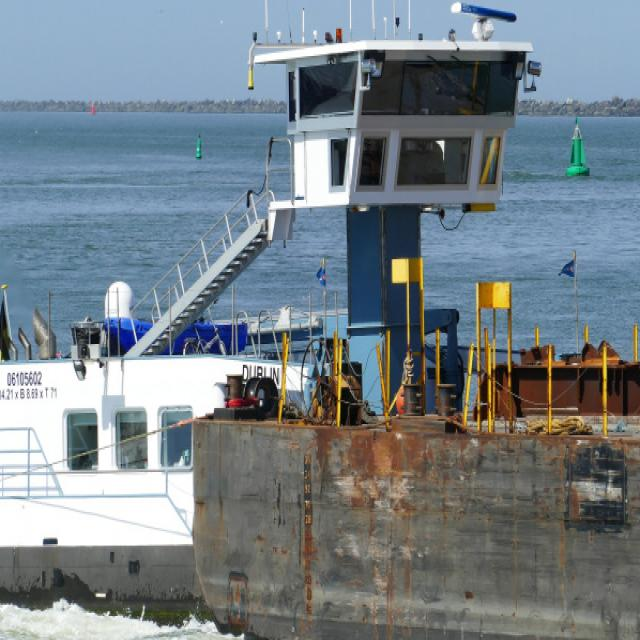tugboat: (1, 1, 617, 640)
